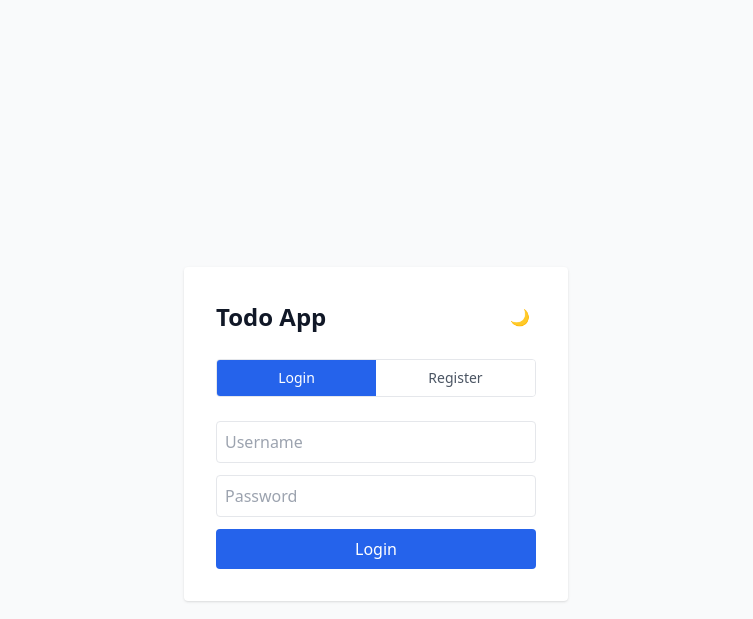
Test: AuthPage › stores auth and transitions to app on successful login
Type "alice" into the field with placeholder "Username". click: (376, 442)
box: [216, 421, 536, 463]
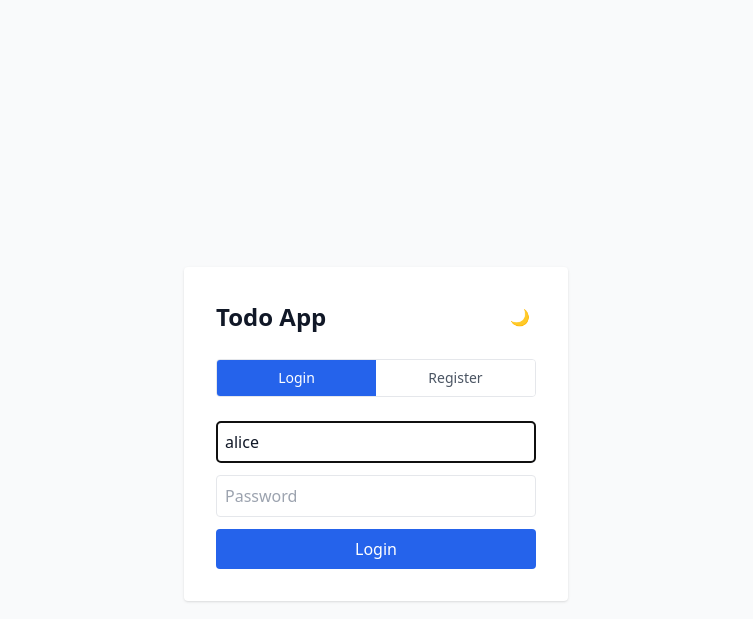
Type "pass123" into the password field with placeholder "Password". click: (376, 496)
box: [216, 475, 536, 517]
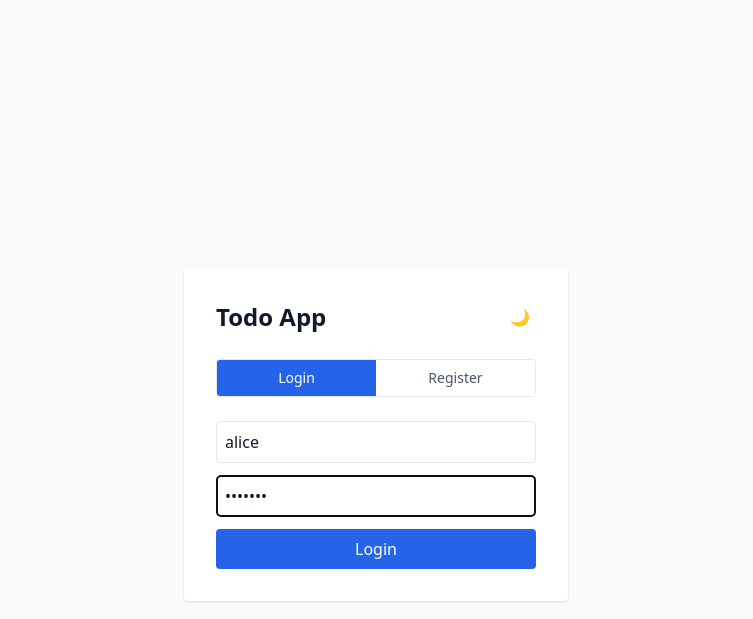
Click the 2nd button "Login". click: (376, 549)
box: [216, 529, 536, 569]
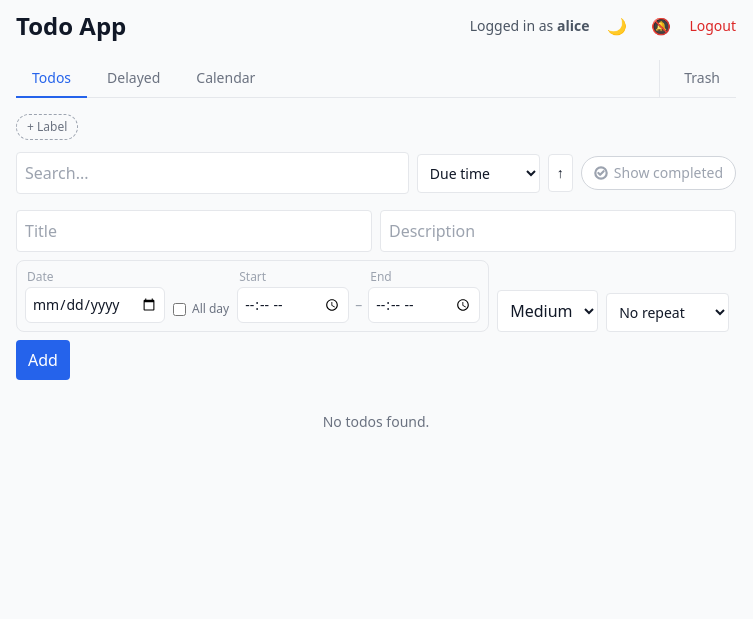
expect the text "Logged in as alice" is shown: met, box [470, 16, 590, 36]
